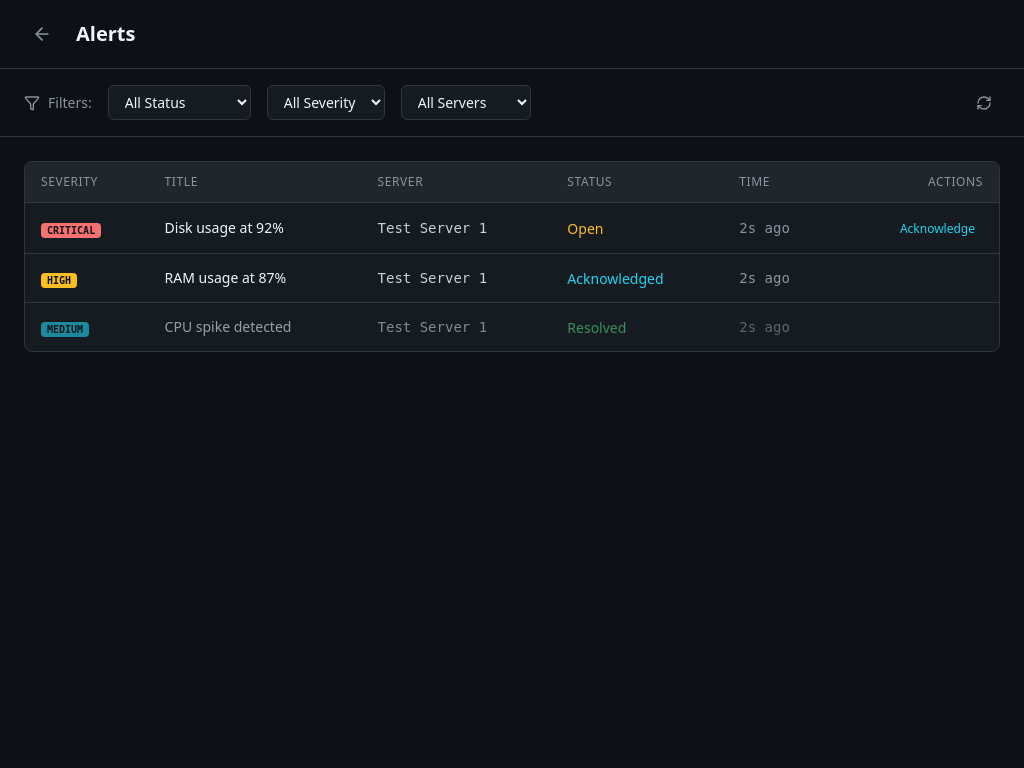
Test: AlertsPage › Resolve from detail (AC6) › renders resolve button in detail panel for non-resolved alerts
Click the row with test id "alert-row-1" at (512, 228), box top-left (25, 202), bottom-right (999, 254)
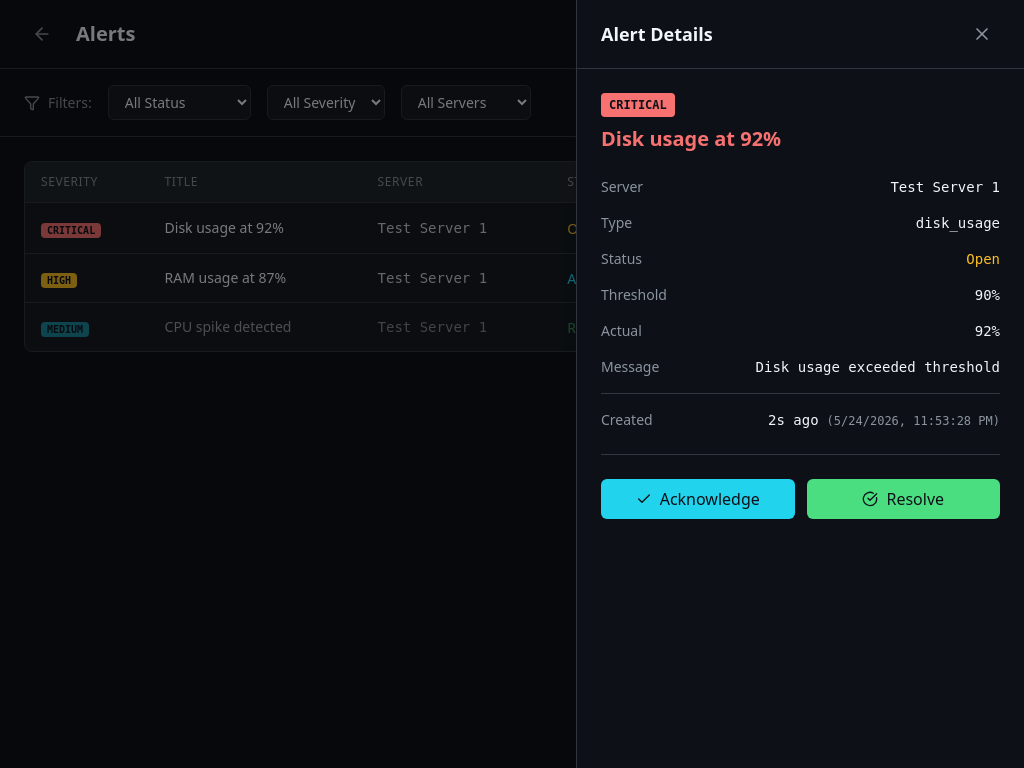
Expected: the button with test id "detail-resolve-button" is shown, top-left (806, 479), bottom-right (1000, 519)
